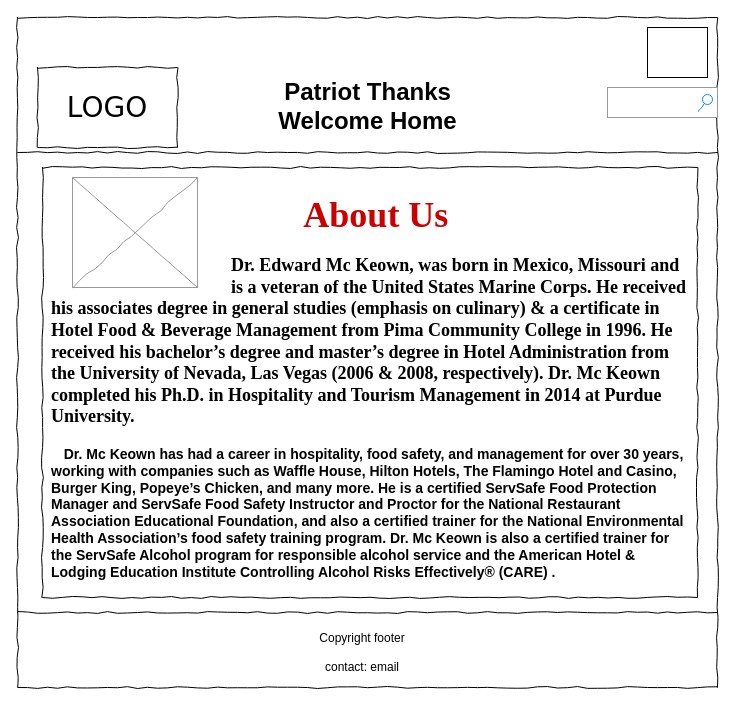
The diagram is 735 pixels wide and 705 high, and some of its shapes have lost their labels. Here are the shapes that lost their labels. From the top down, the box of each, then its label:
(646, 26, 708, 78): slick_nav menu button
(606, 86, 718, 118): Search
